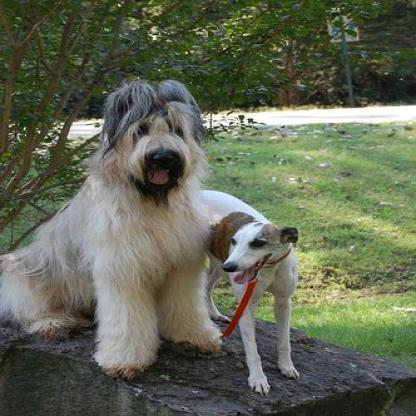briard: (0, 80, 223, 376)
